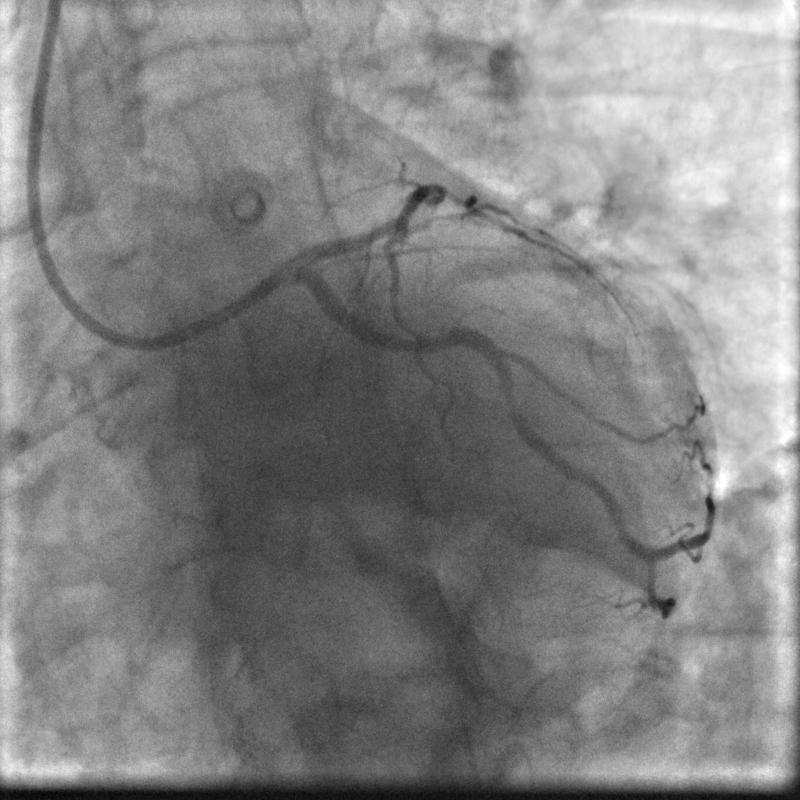Stenosis: (501, 382, 518, 413)
